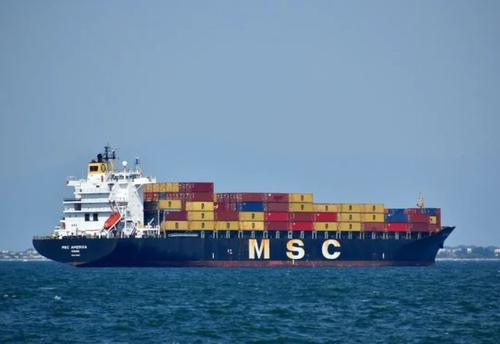Cargoship: (29, 139, 460, 268)
